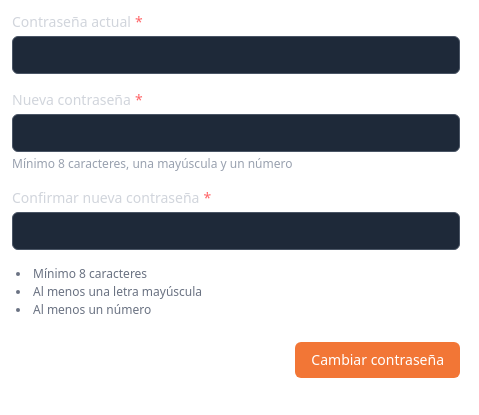
it: PasswordChangeForm › shows error when passwords do not match
The image size is (479, 415).
Type "OldPassword1" into the password field named "currentPassword". click: point(236, 55)
box: [12,36,460,74]
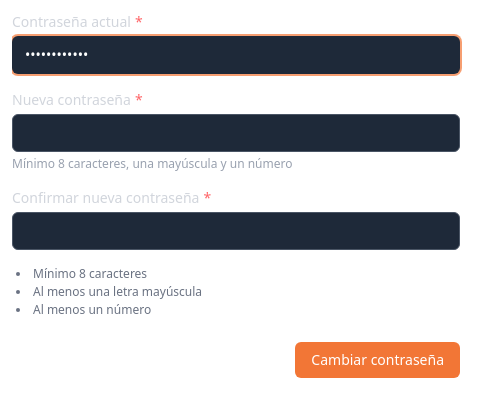
Type "NewPassword1" into the password field named "newPassword". click: point(236, 133)
box: [12,114,460,152]
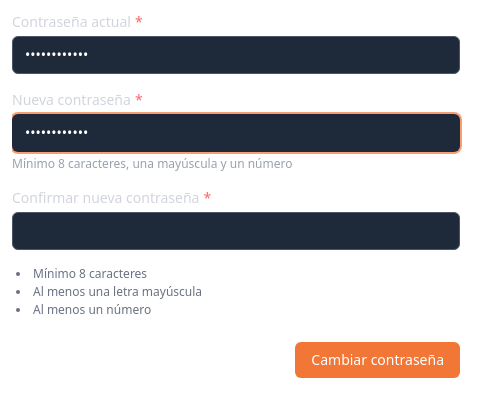
Type "DifferentPass1" into the password field named "confirmPassword". click: point(236, 231)
box: [12,212,460,250]
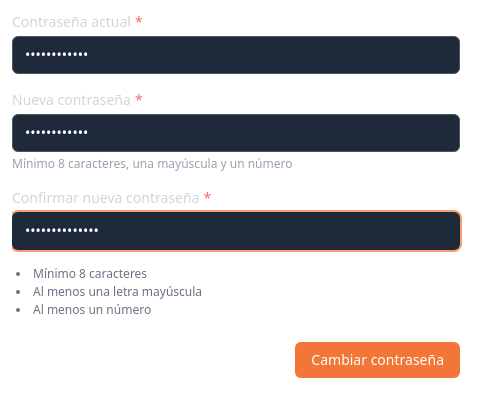
Click the button "Cambiar contraseña". click: point(378, 360)
box: [295,342,460,378]
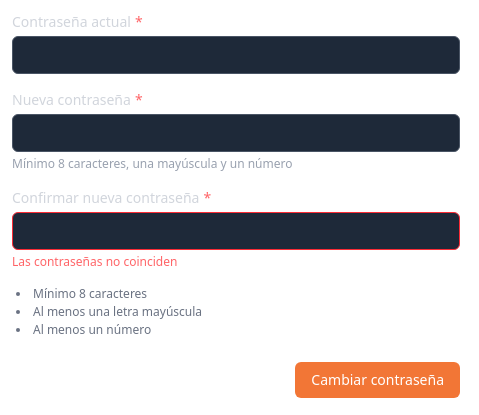
Expected: the text "Las contraseñas no coinciden" is shown, [12,253,177,270]
